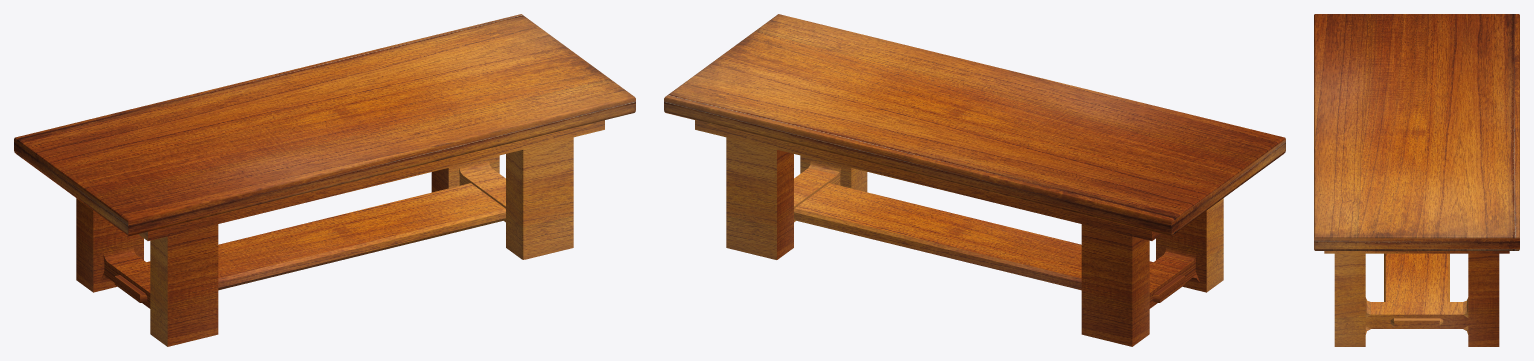
The model's file is GameTable.fbx.
The picture shows the model from 3 angles, left to right: view 1: azimuth 30°, elevation 25°; view 2: azimuth 150°, elevation 25°; view 3: azimuth 270°, elevation 25°; orthographic projection. The views are drawn at different scales.
Parts seen in each view (by area): view 1: pCube4; view 2: pCube4; view 3: pCube4.
Boxes of the visible parts, x1,y1,x2,y2 form: pCube4: (14, 14, 635, 346); pCube4: (664, 14, 1285, 346); pCube4: (1314, 14, 1519, 346).
Size of the model in its own units: 49.55 by 13.73 by 19.31.
1 material, 1 textured.
